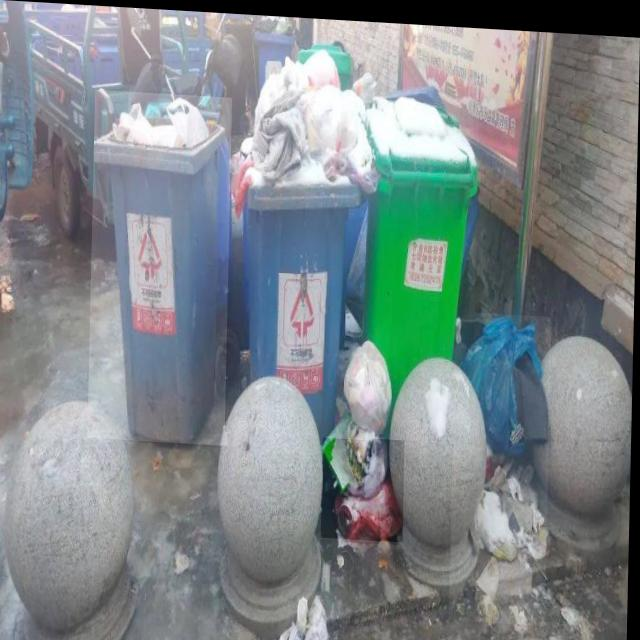garbage: (452, 306, 553, 619), (323, 332, 408, 538), (281, 587, 333, 640)
overflow: (227, 45, 380, 436), (90, 89, 236, 444), (359, 87, 480, 438)
